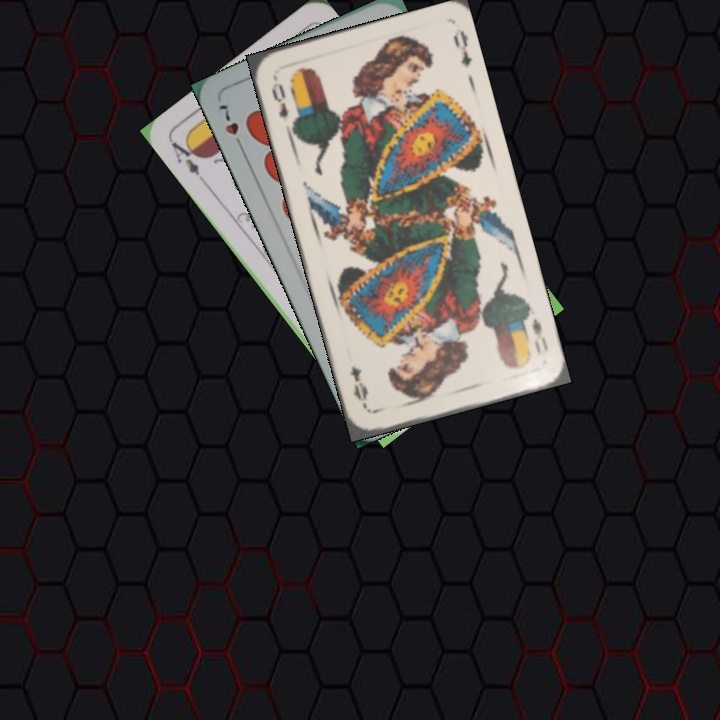EA: (167, 135, 209, 187)
EO: (267, 73, 299, 130), (528, 314, 551, 357)
H7: (215, 100, 247, 154)
